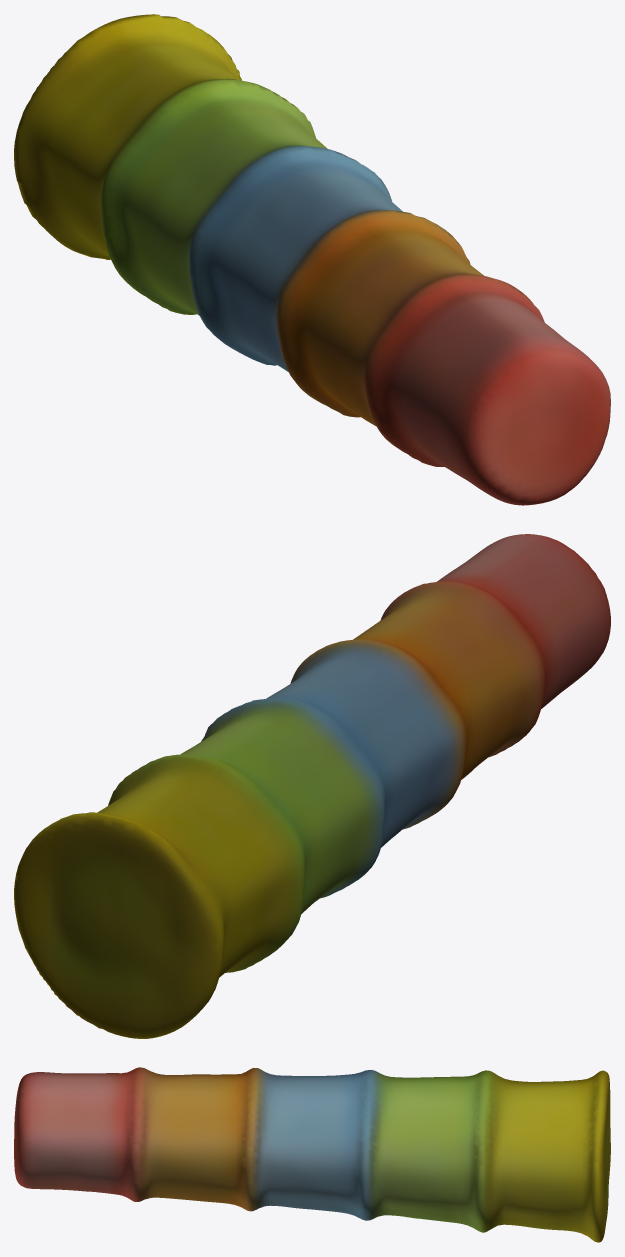
File: stucking_cups.glb
The picture shows the model from 3 angles, top to bottom: view 1: azimuth 30°, elevation 25°; view 2: azimuth 150°, elevation 25°; view 3: azimuth 270°, elevation 25°; orthographic projection. The views are drawn at different scales.
Size of the model in its own units: 0.2895 by 0.2913 by 0.9999.
